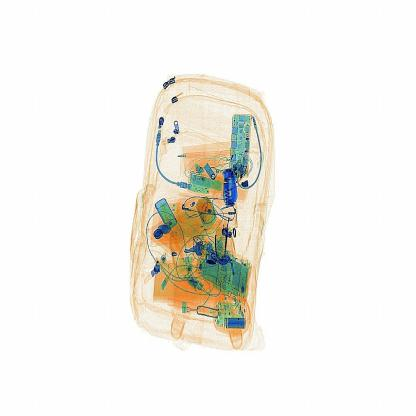scissors: (222, 154, 244, 215)
